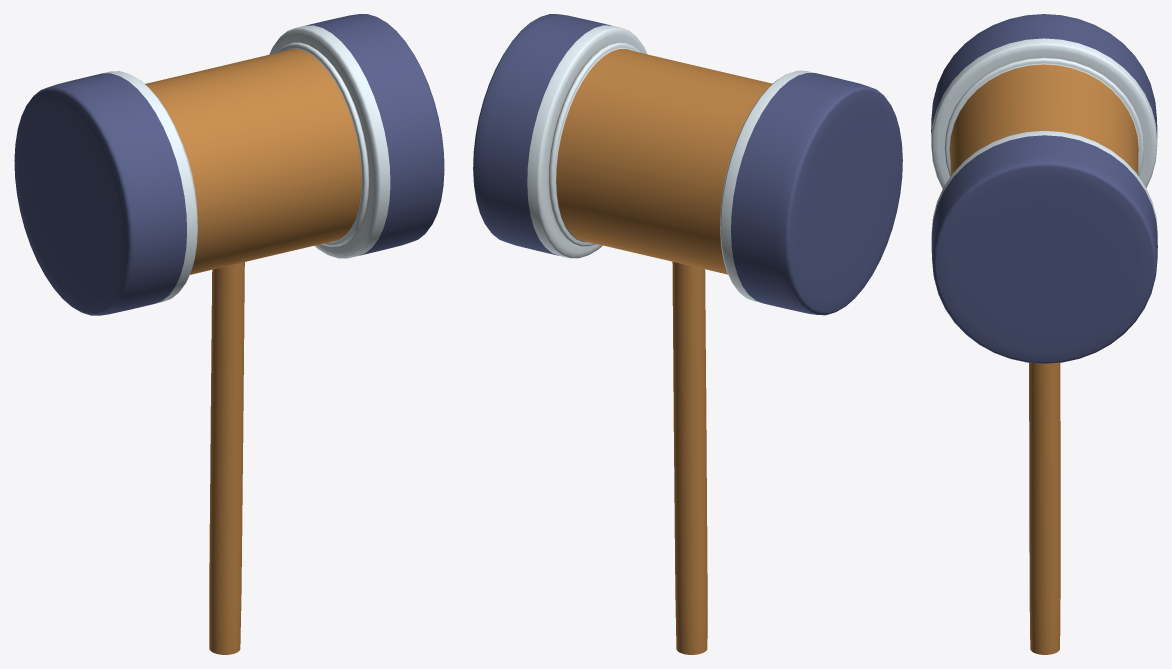
File: M_Hammer.fbx
3 renders of one model, left to right at view 1: azimuth 30°, elevation 25°; view 2: azimuth 150°, elevation 25°; view 3: azimuth 270°, elevation 25°, orthographic. The views are drawn at different scales.
Parts seen in each view (by area): view 1: polySurface110; view 2: polySurface110; view 3: polySurface110.
Part boxes in pixels (<box>): polySurface110: <box>14,14,444,654</box>; polySurface110: <box>473,14,902,654</box>; polySurface110: <box>931,14,1157,654</box>.
Size of the model in its own units: 108 by 191 by 69.3.
